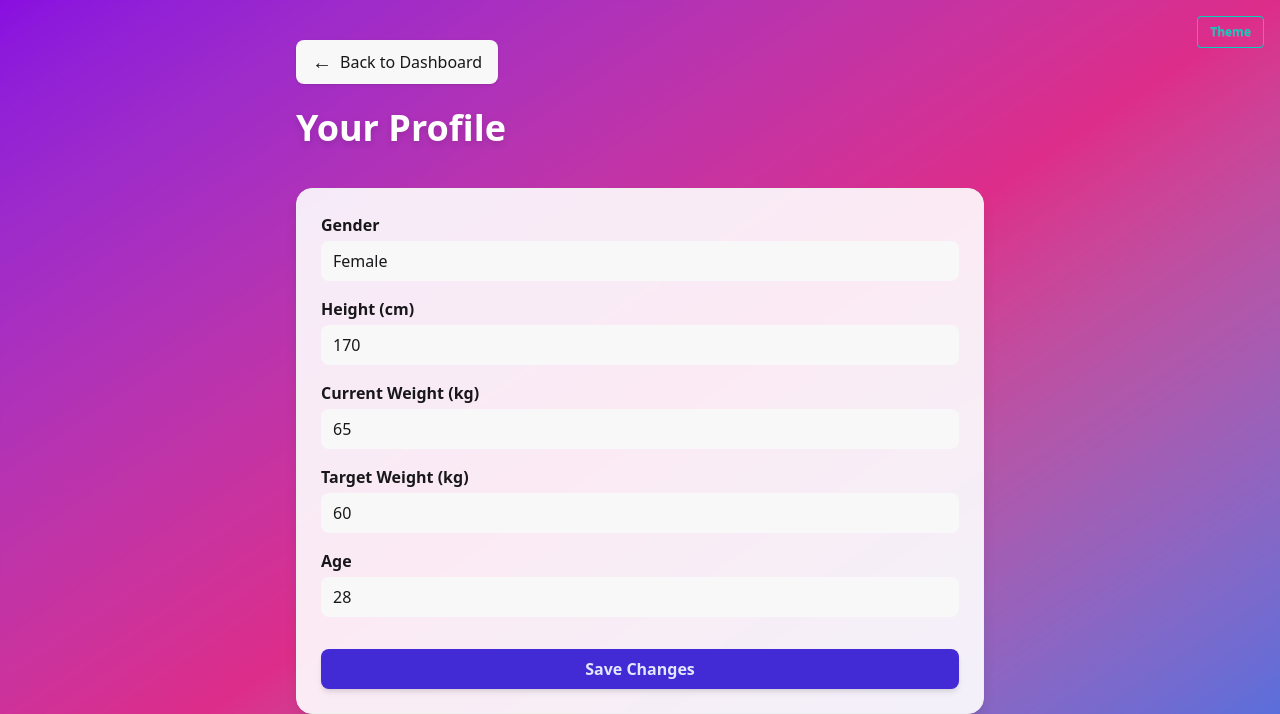
Test: ProfilePage - 20 Automated UI Tests › 13. Empty target weight shows error
Clear the number field named "target_weight_kg" below "Target Weight (kg)" at (640, 513), box [321,493,959,533]
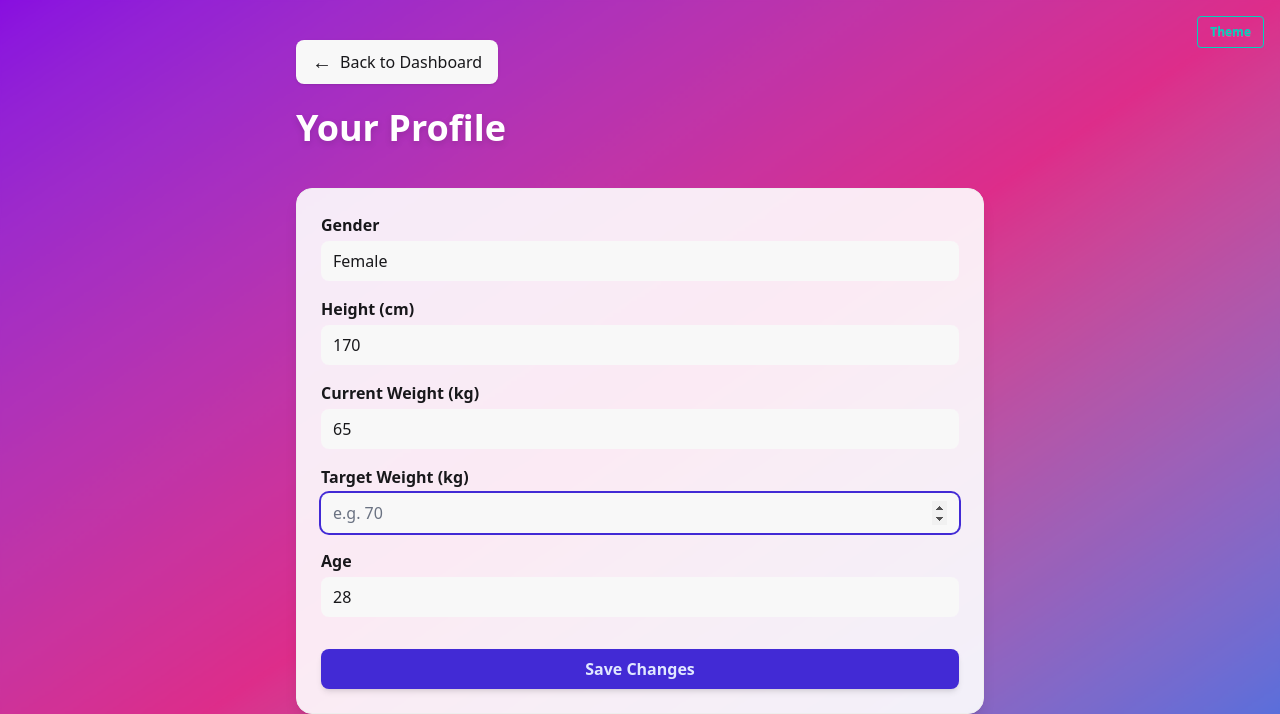
Click the button "Save Changes" at (640, 669), box [321,649,959,689]
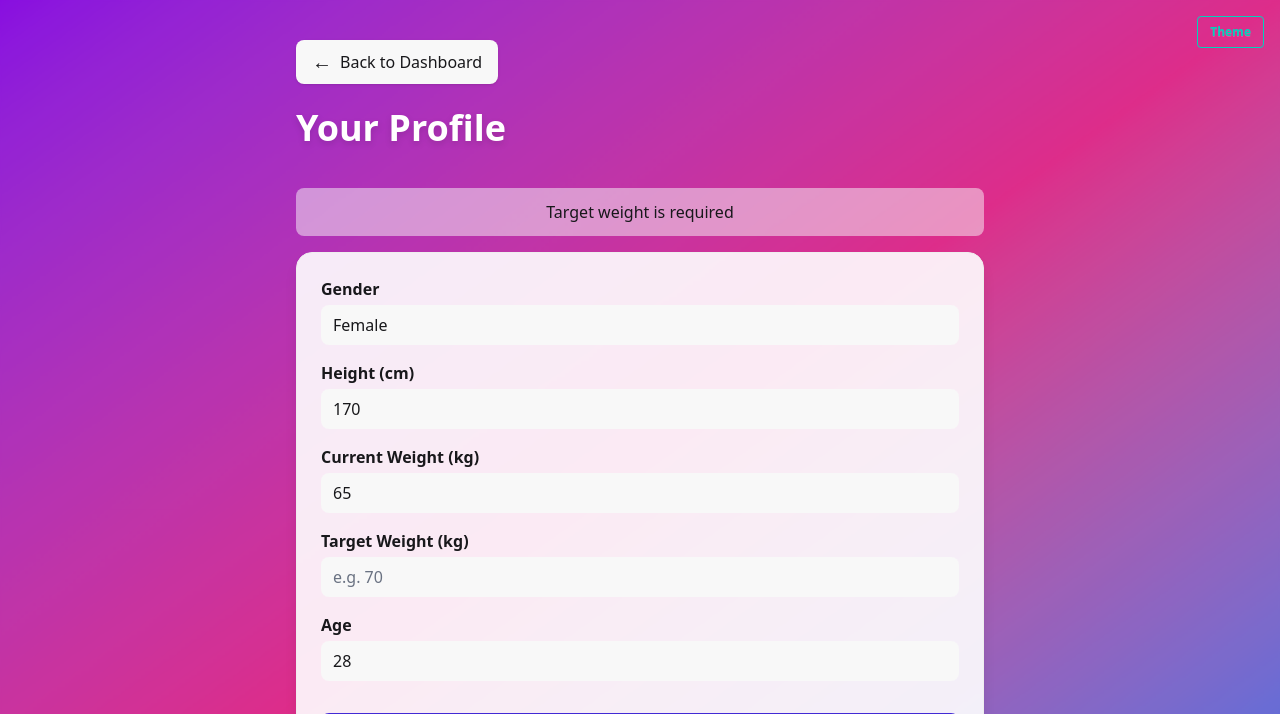
Now the text "Target weight is required" is shown, box [296,188,984,236]
